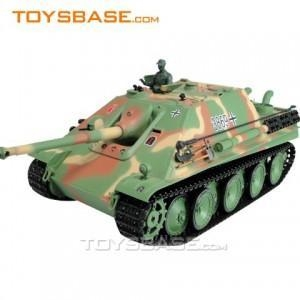Battle Tank: (27, 74, 300, 248)
